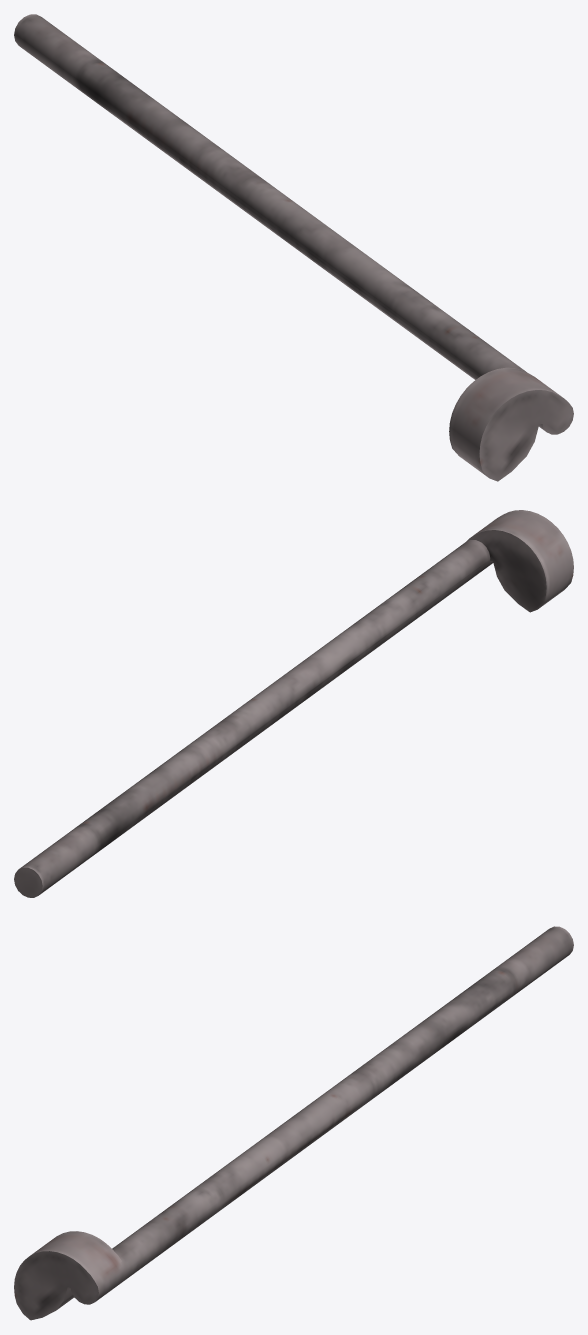
File: SM_Brimstone_01f.fbx
The picture shows the model from 3 angles, top to bottom: view 1: azimuth 30°, elevation 25°; view 2: azimuth 150°, elevation 25°; view 3: azimuth 330°, elevation 25°; orthographic projection. The views are drawn at different scales.
Visible parts, largest first — view 1: SM_Brimstone_01f_LOD0; view 2: SM_Brimstone_01f_LOD0; view 3: SM_Brimstone_01f_LOD0.
Boxes of the visible parts, x1,y1,x2,y2 form: SM_Brimstone_01f_LOD0: (14, 14, 573, 481); SM_Brimstone_01f_LOD0: (14, 510, 573, 897); SM_Brimstone_01f_LOD0: (14, 926, 573, 1320).
Bounding box in the file's own units: 1.39 × 13.48 × 1.17.
